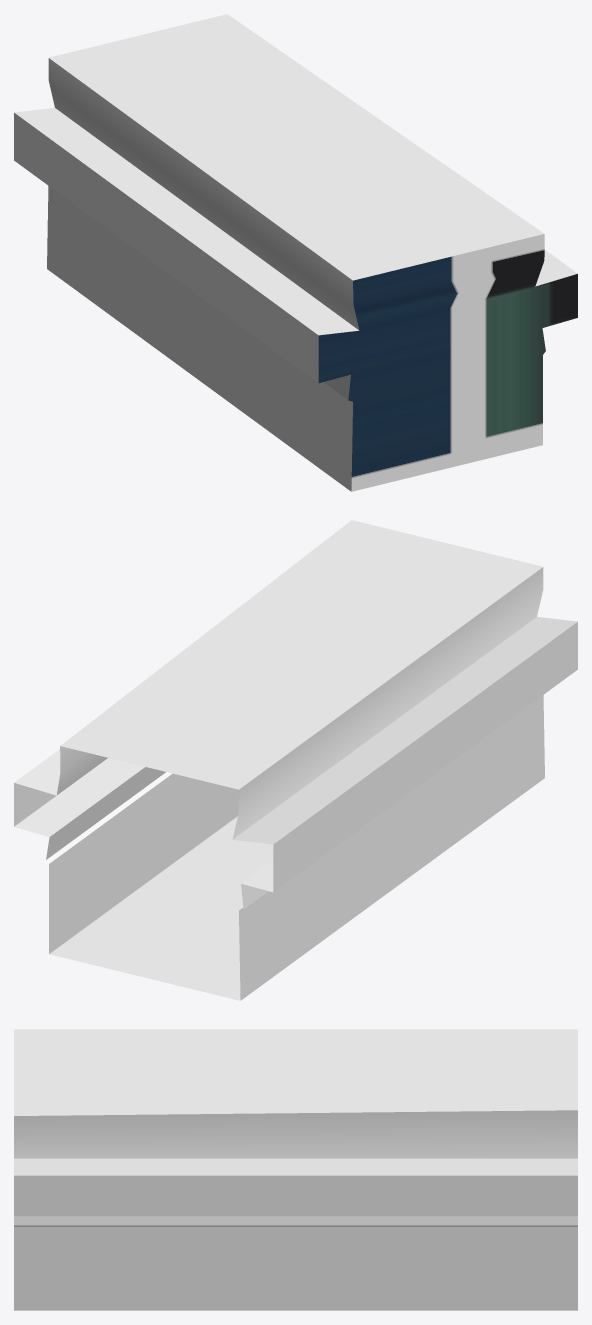
The model's file is Columna_01.fbx.
3 views of the same model, one above another, from view 1: azimuth 30°, elevation 25°; view 2: azimuth 150°, elevation 25°; view 3: azimuth 270°, elevation 25° (orthographic). The views are drawn at different scales.
Parts seen in each view (by area): view 1: Columna_01; view 2: Columna_01; view 3: Columna_01.
Boxes of the visible parts, x1,y1,x2,y2 form: Columna_01: (14,14,577,491); Columna_01: (14,520,577,1000); Columna_01: (14,1029,577,1310).
Size of the model in its own units: 2.57 by 2 by 5.23.
